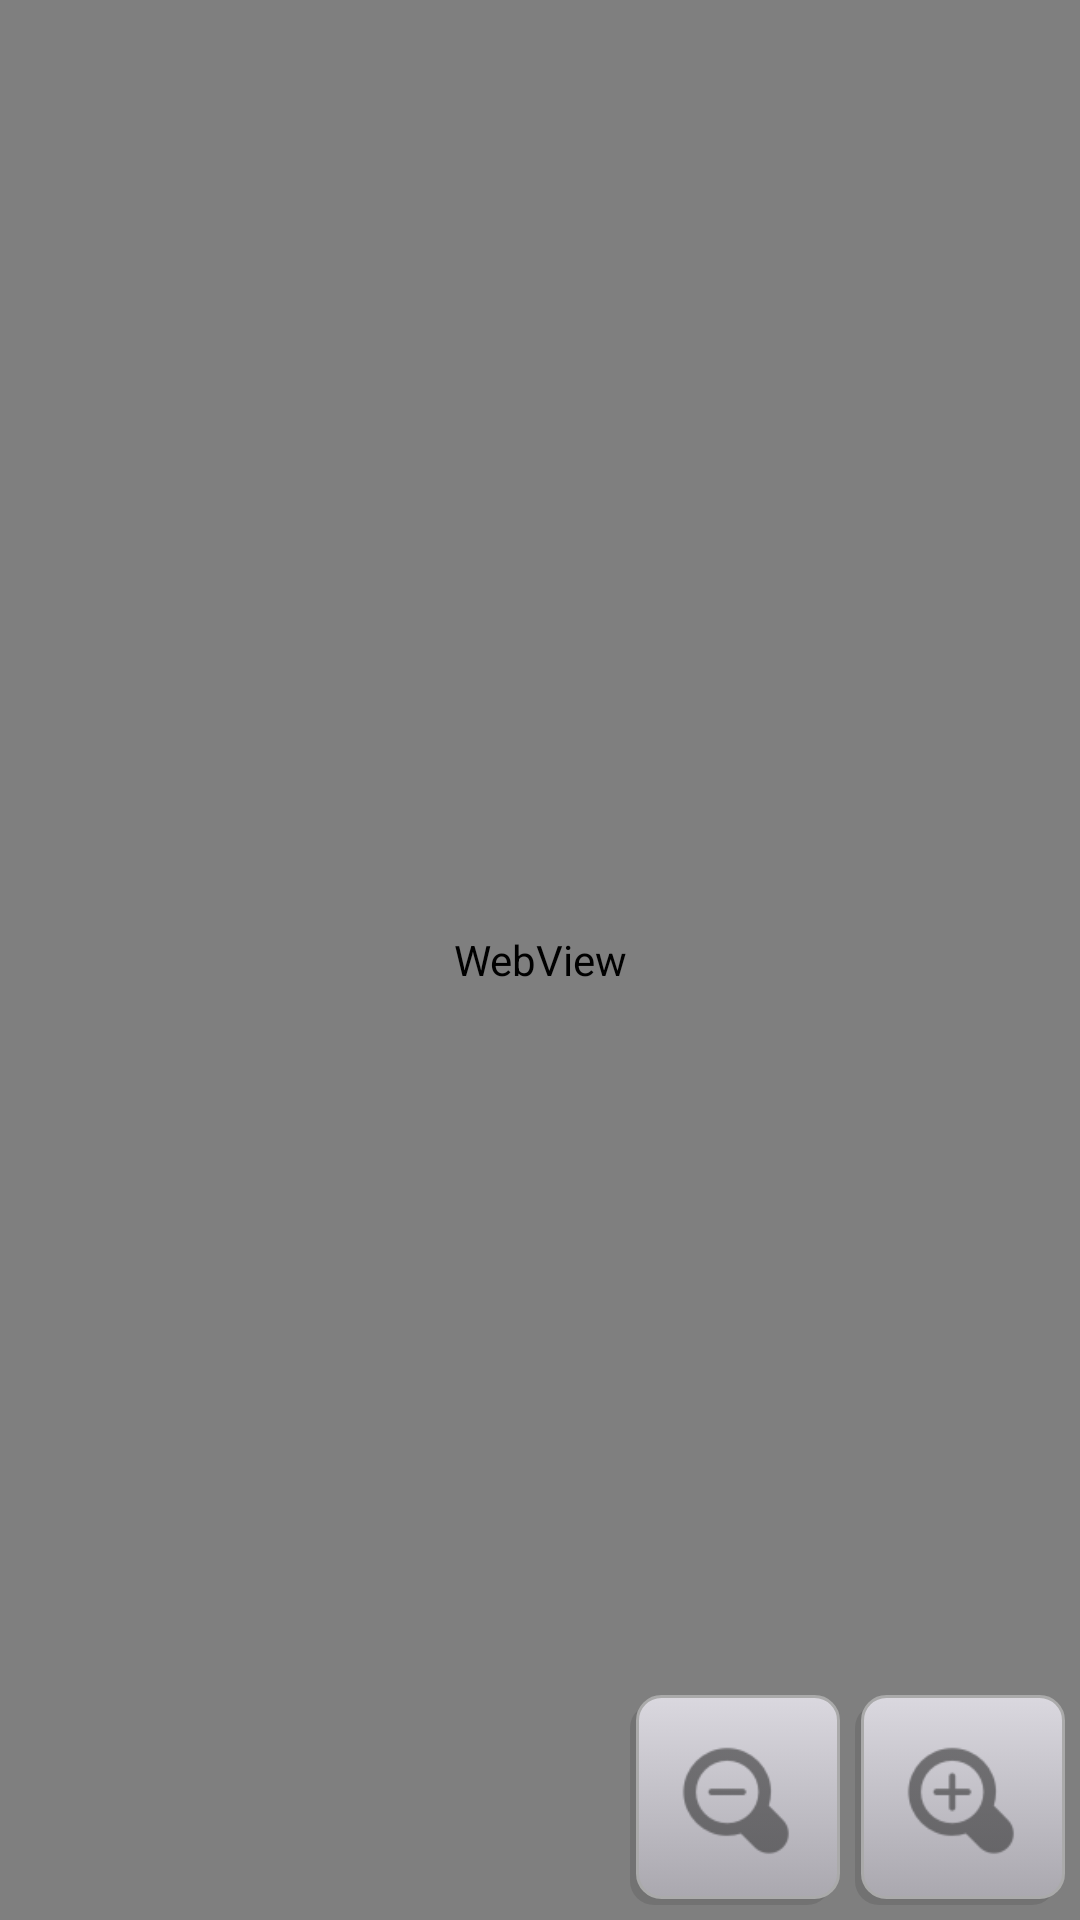

Named icons in this screenshot (1080 × 1920) and their centers, point (x, y):
zoom in: point (963, 1797)
zoom out: point (738, 1797)
